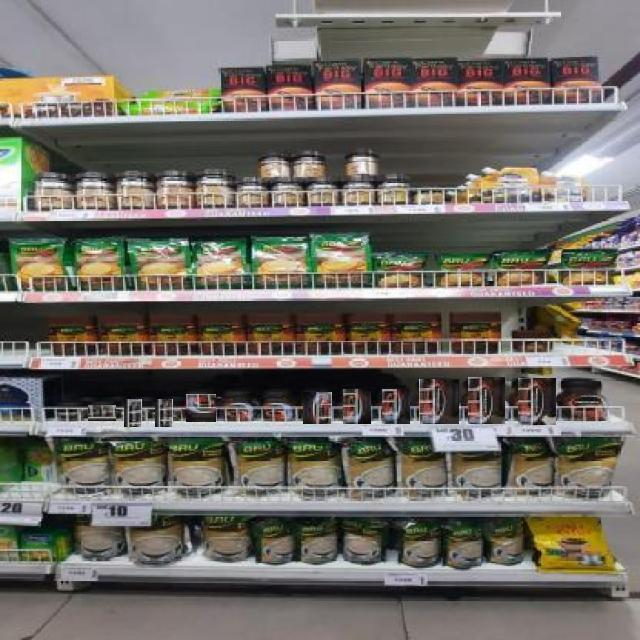Coffee: (563, 381, 610, 420), (517, 378, 556, 425), (419, 379, 459, 424), (467, 378, 505, 424), (342, 389, 371, 424), (221, 393, 255, 422), (382, 389, 410, 424), (303, 391, 332, 424), (262, 392, 296, 420), (185, 393, 216, 422), (52, 404, 84, 421), (124, 398, 142, 427), (87, 404, 116, 421), (156, 398, 173, 427)
